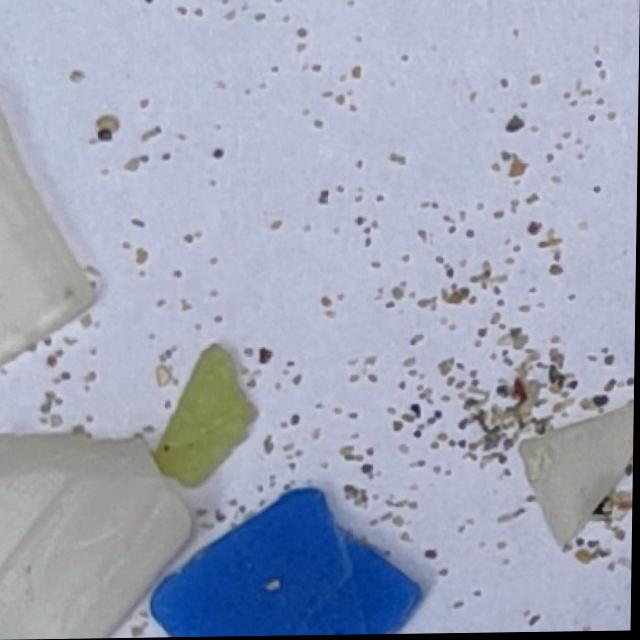microplastic: (146, 486, 427, 638), (0, 434, 201, 640), (0, 110, 95, 366), (145, 341, 280, 506), (520, 403, 636, 555)
